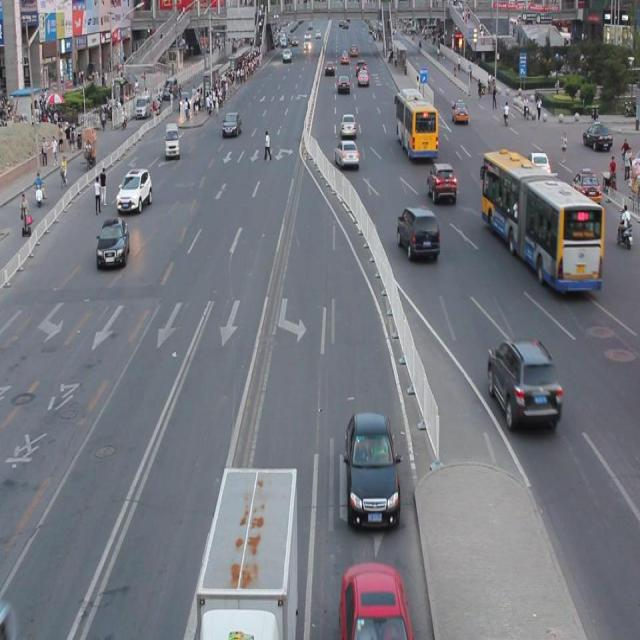bus: (195, 463, 298, 640)
car: (487, 337, 561, 432), (344, 410, 401, 529), (340, 559, 412, 640), (398, 204, 440, 262), (96, 217, 130, 270), (116, 168, 152, 212), (426, 161, 456, 203), (570, 170, 600, 205)
van: (480, 150, 601, 291)
